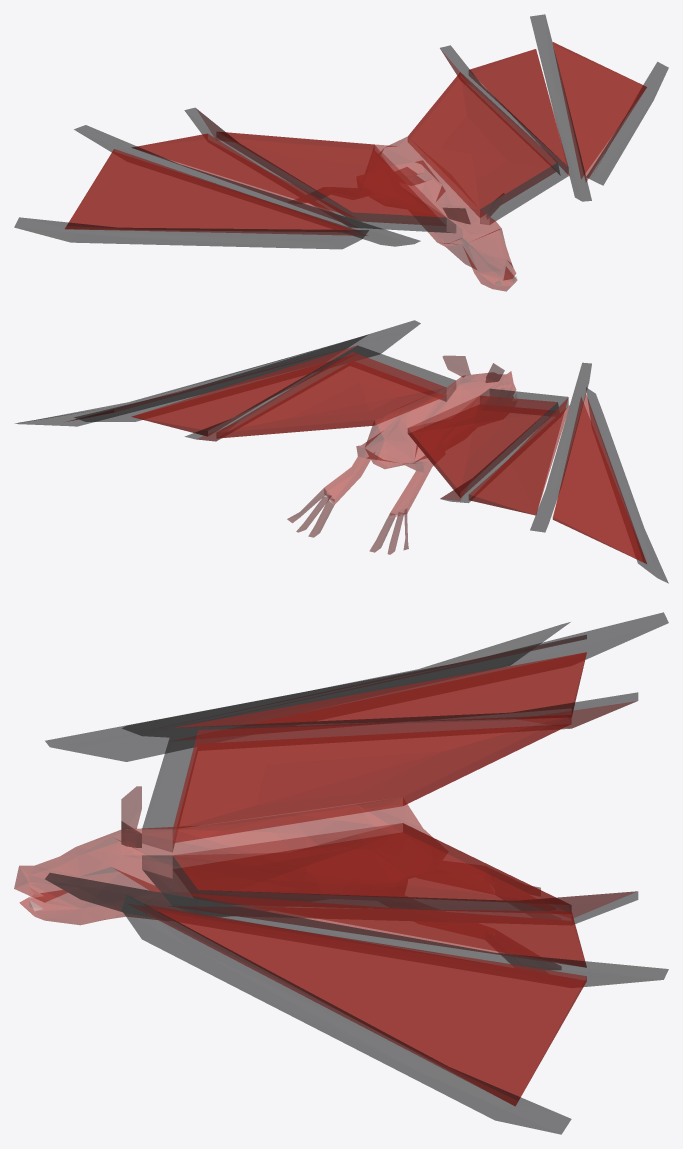
The model's file is model_2940_npc.obj.
3 renders of one model, top to bottom at view 1: azimuth 30°, elevation 25°; view 2: azimuth 150°, elevation 25°; view 3: azimuth 270°, elevation 25°, orthographic. The views are drawn at different scales.
Parts seen in each view (by area): view 1: 2940; view 2: 2940; view 3: 2940.
Part boxes in pixels (<box>): 2940: <box>14,14,668,291</box>; 2940: <box>15,320,668,583</box>; 2940: <box>14,612,668,1134</box>.
Size of the model in its own units: 236 by 32 by 128.
